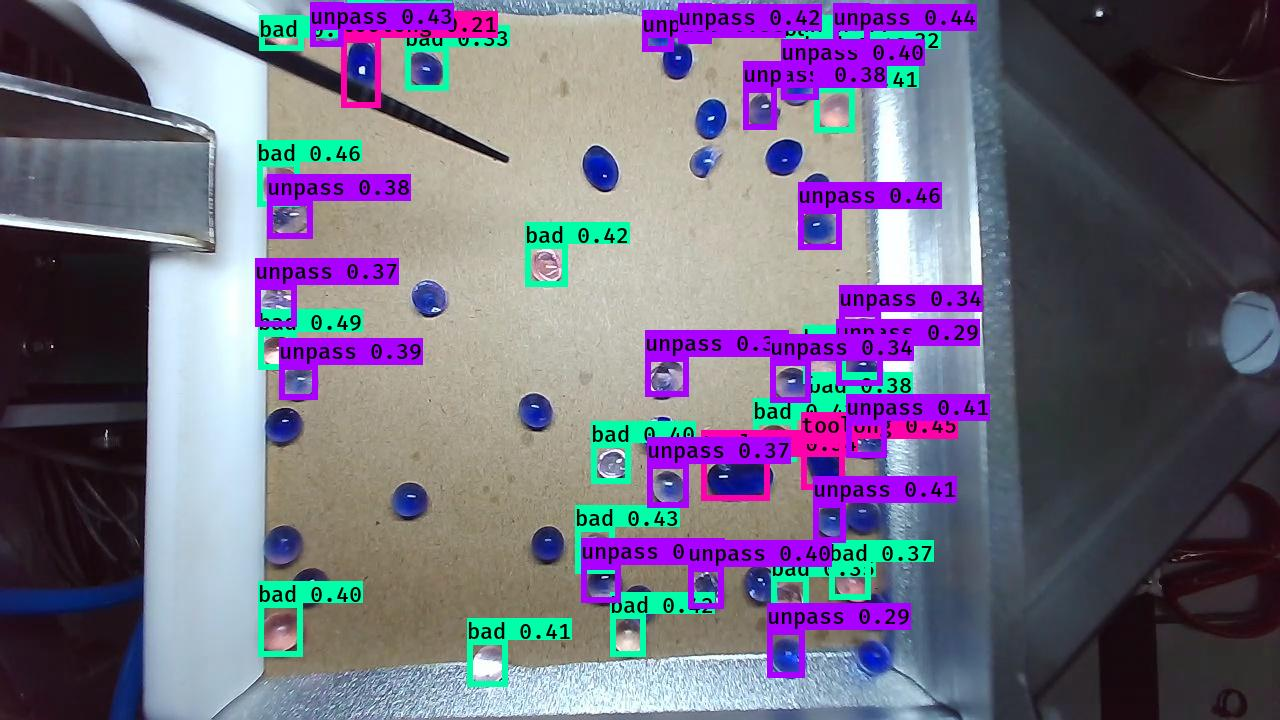bad: (839, 383, 890, 431), (256, 606, 304, 655), (784, 15, 829, 62), (815, 92, 859, 135), (467, 641, 507, 686), (263, 13, 306, 54), (261, 163, 304, 204), (407, 49, 446, 93), (605, 614, 646, 655), (769, 579, 810, 620), (831, 566, 870, 609), (526, 246, 564, 288), (260, 331, 299, 371), (578, 529, 616, 570), (832, 52, 873, 89), (592, 444, 633, 481), (347, 2, 385, 40), (753, 423, 790, 460), (809, 347, 845, 384), (811, 394, 846, 430), (802, 53, 835, 91)
defact: (687, 143, 727, 181)
pass: (578, 144, 621, 195), (287, 565, 334, 610), (386, 479, 431, 523), (843, 492, 884, 538), (638, 414, 680, 457), (763, 135, 805, 178), (515, 391, 555, 435), (261, 406, 304, 446), (690, 94, 729, 138), (528, 524, 566, 568), (412, 277, 452, 317), (619, 580, 656, 623), (798, 171, 833, 213), (857, 591, 892, 632), (662, 45, 696, 83)
toolong: (701, 457, 775, 503), (797, 435, 846, 495)
unpass: (794, 206, 844, 251), (260, 525, 308, 570), (832, 1, 875, 51), (836, 344, 880, 387), (256, 286, 300, 327), (647, 356, 686, 402), (269, 201, 314, 240), (769, 361, 808, 404), (845, 421, 889, 459), (766, 638, 806, 678), (842, 311, 882, 351), (281, 365, 322, 403), (740, 564, 777, 606), (684, 571, 721, 612), (648, 468, 684, 510), (584, 563, 622, 602), (858, 639, 897, 676), (679, 8, 715, 48), (778, 69, 816, 106), (747, 89, 781, 130), (309, 5, 346, 42), (813, 504, 848, 542), (640, 15, 674, 52)
